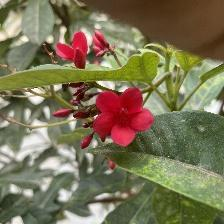jatropha: (93, 86, 155, 147)
